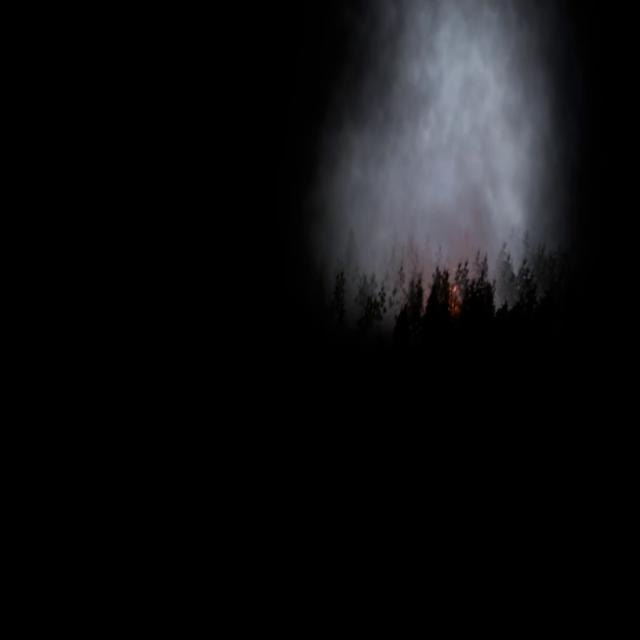smoke: (306, 0, 578, 320)
